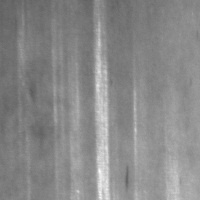scratches: (92, 19, 116, 200)
